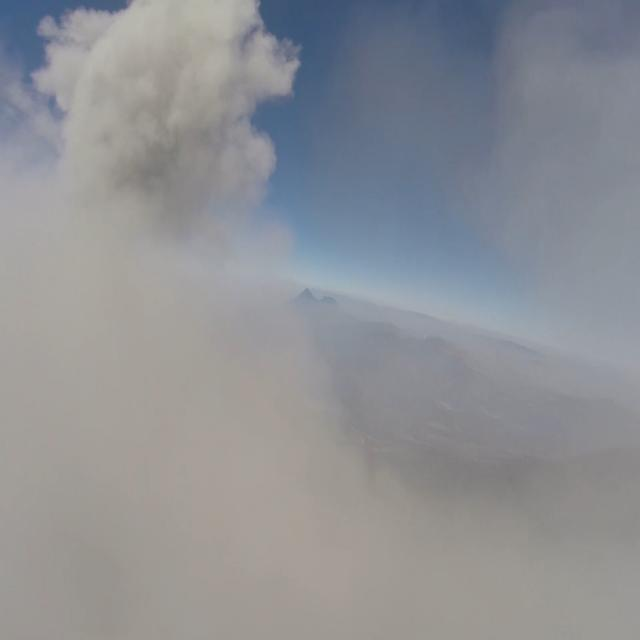Plume: (25, 1, 304, 234), (414, 2, 482, 2)
